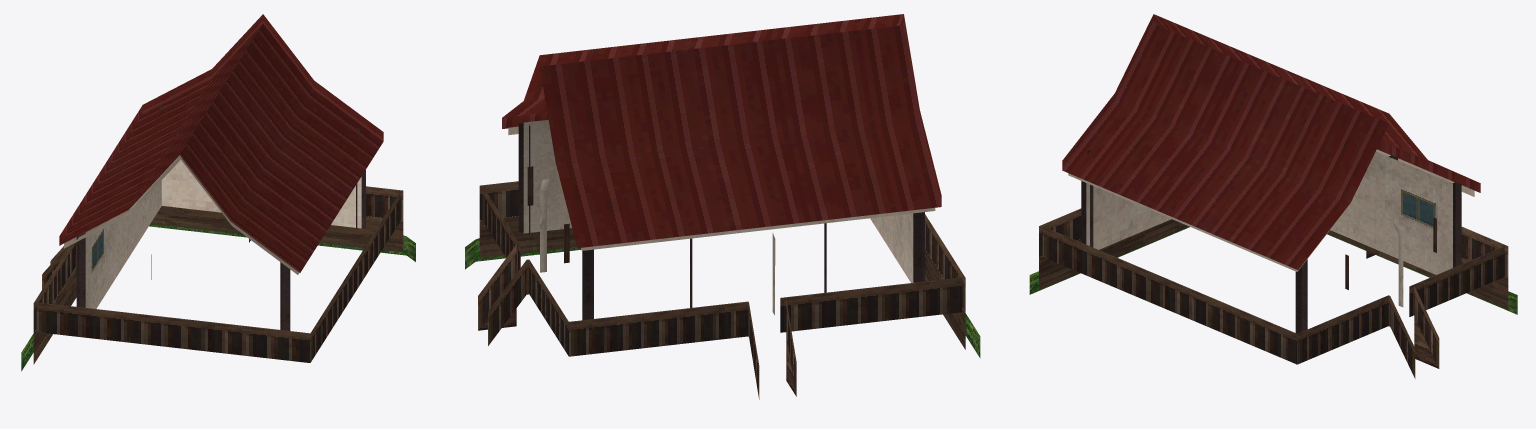
The model's file is ps2_save-icons_winningpost5maximum2002-story.glb.
3 views of the same model, side by side, from view 1: azimuth 30°, elevation 25°; view 2: azimuth 150°, elevation 25°; view 3: azimuth 270°, elevation 25° (orthographic). The views are drawn at different scales.
Visible parts, largest first — view 1: ic_game.icn; view 2: ic_game.icn; view 3: ic_game.icn.
Boxes of the visible parts, bbox=[...] form: ic_game.icn: bbox=[21, 14, 415, 371]; ic_game.icn: bbox=[465, 14, 980, 399]; ic_game.icn: bbox=[1029, 14, 1517, 378].
Bounding box in the file's own units: 4.95 × 2.68 × 4.95.
1 material, 1 textured.
